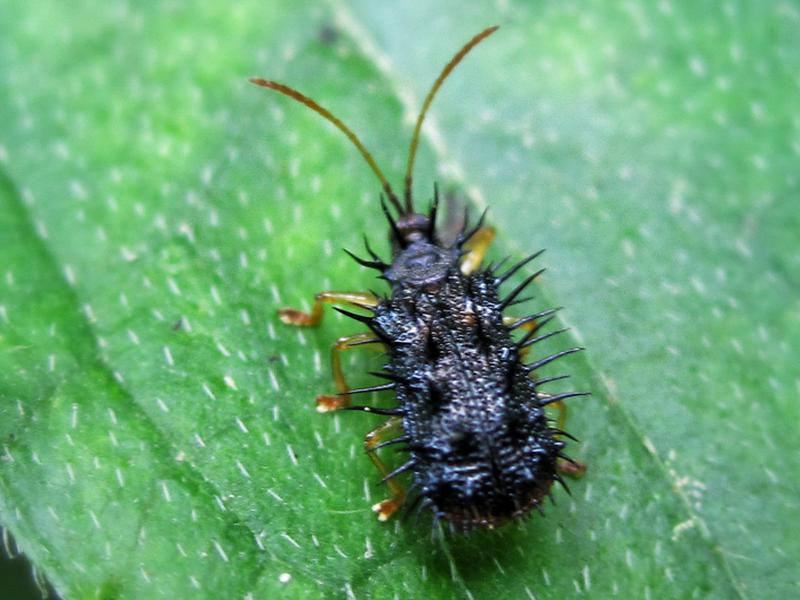Spiny_beetle: (279, 183, 598, 549)
